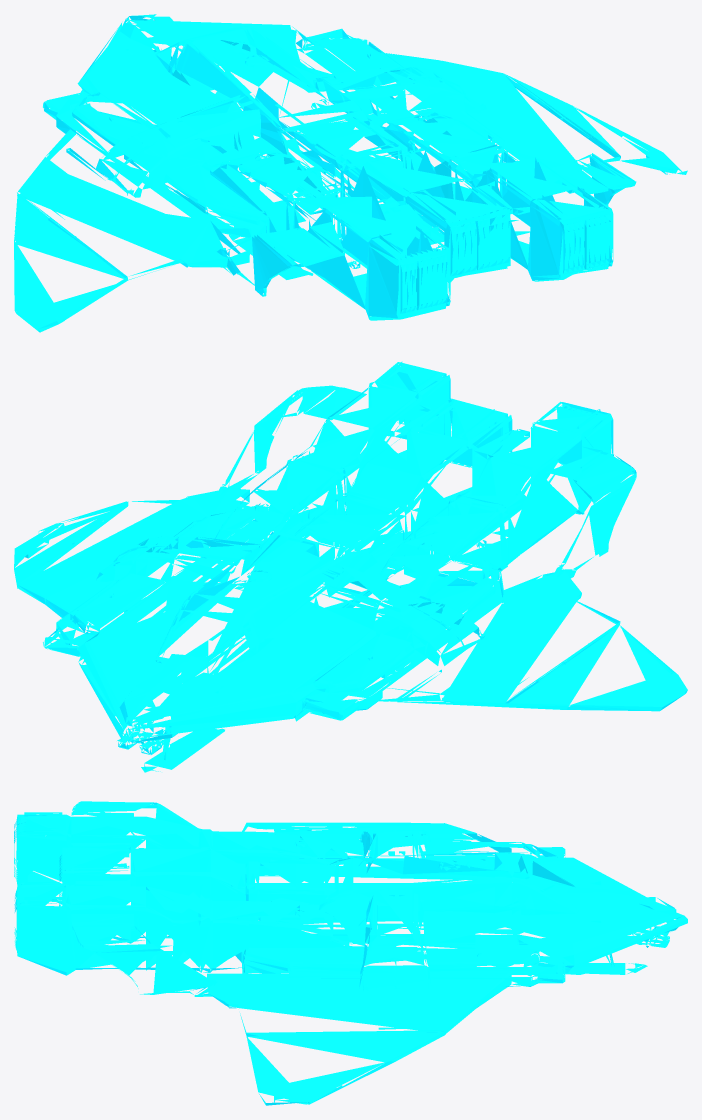
Rendered from PXAF700.glb.
3 renders of one model, top to bottom at view 1: azimuth 30°, elevation 25°; view 2: azimuth 150°, elevation 25°; view 3: azimuth 270°, elevation 25°, orthographic. The views are drawn at different scales.
Visible parts, largest first — view 1: misc; view 2: misc; view 3: misc.
Boxes of the visible parts, left/top/right/bottom form: misc: left=14, top=14, right=687, bottom=332; misc: left=14, top=361, right=687, bottom=772; misc: left=14, top=801, right=687, bottom=1105.
Bounding box in the file's own units: 1.01 × 0.1945 × 1.04.
